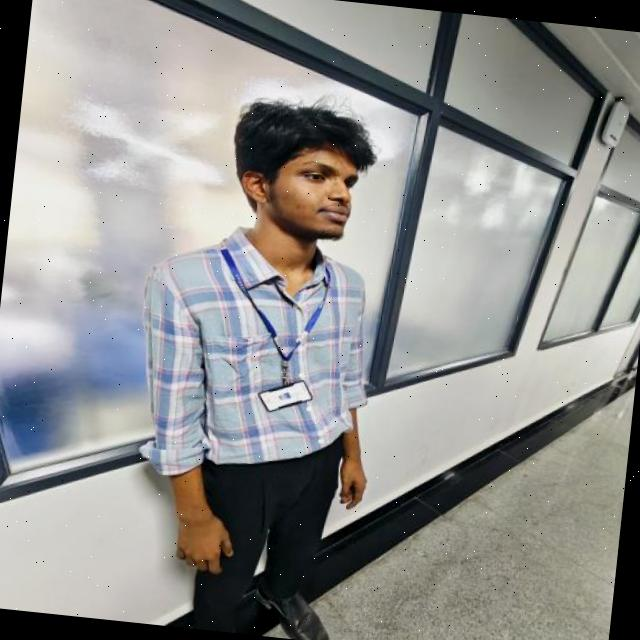Card: (258, 381, 311, 412)
Id strap: (220, 249, 330, 361)
